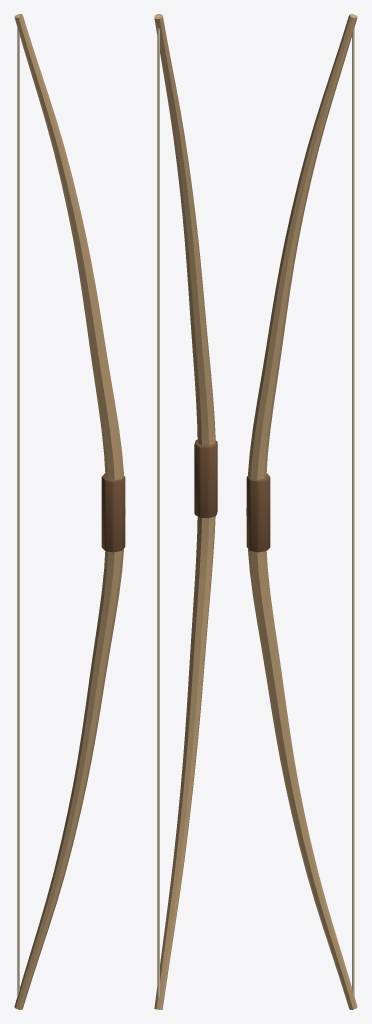
Rendered from longbow.glb.
The picture shows the model from 3 angles, left to right: view 1: azimuth 90°, elevation 25°; view 2: azimuth 150°, elevation 25°; view 3: azimuth 270°, elevation 25°; orthographic projection.
Visible parts, largest first — view 1: Bow_Longbow; view 2: Bow_Longbow; view 3: Bow_Longbow.
Part boxes in pixels (bbox=[...]): Bow_Longbow: bbox=[14, 14, 125, 1009]; Bow_Longbow: bbox=[154, 14, 217, 1009]; Bow_Longbow: bbox=[246, 14, 357, 1009].
Bounding box in the file's own units: 0.0391 × 1.8 × 0.183.
